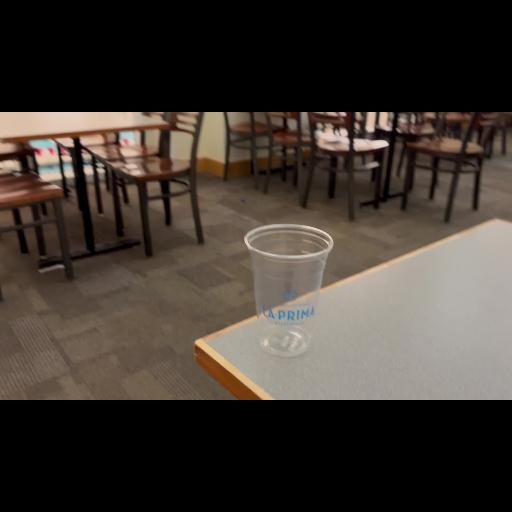lp_plastic_cup: (243, 212, 333, 358)
